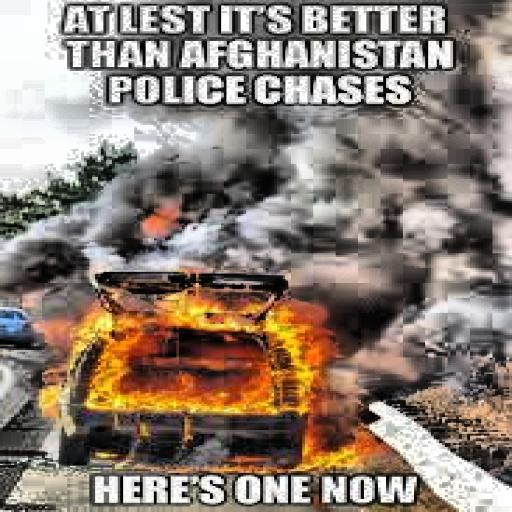fire: (34, 278, 378, 476)
